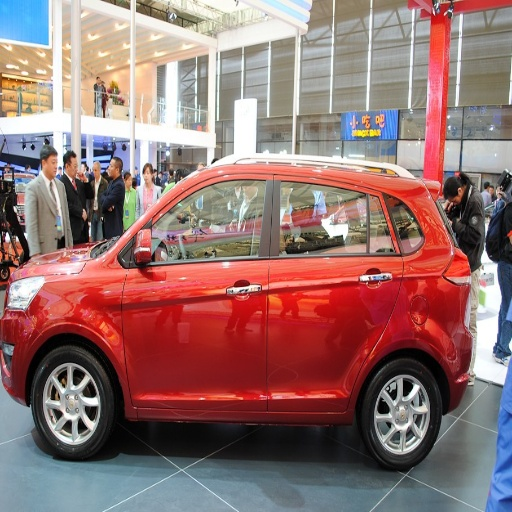back_left_door: (268, 170, 399, 409)
front_left_door: (122, 170, 272, 409)
